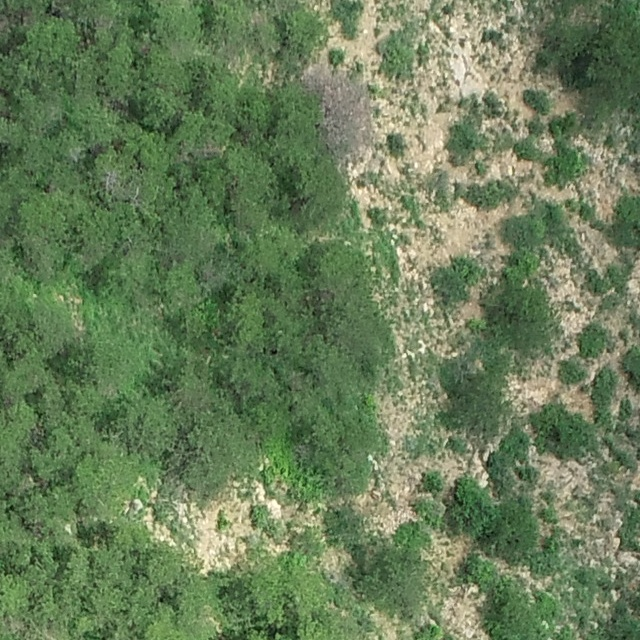unhealthy: (301, 68, 363, 156), (98, 166, 122, 199)
